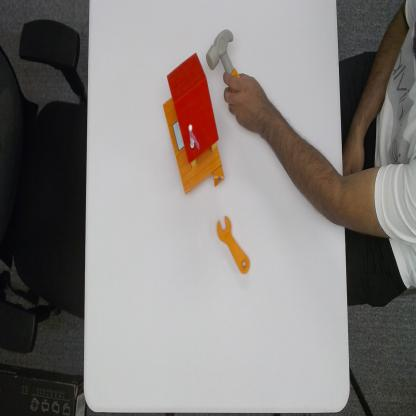Arm: (272, 106, 416, 239)
Hammer: (206, 26, 240, 78)
Hand: (222, 70, 274, 136)
House: (162, 50, 225, 198)
Screwdriver: (215, 213, 251, 276)
